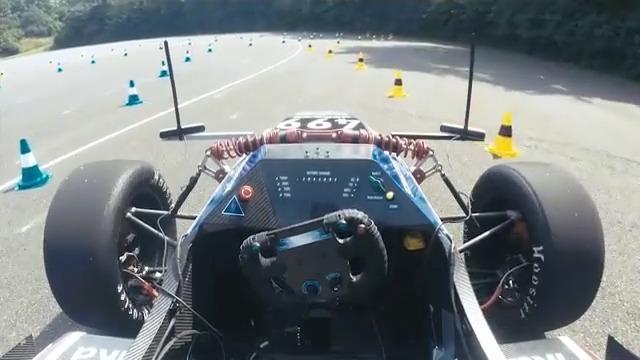blue_cone: (14, 138, 53, 192), (124, 79, 144, 107), (159, 61, 170, 78), (184, 49, 192, 62)
yellow_cone: (486, 113, 521, 161), (388, 71, 408, 99), (353, 52, 368, 69)
